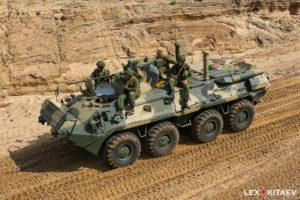armored_car: (34, 43, 268, 173)
